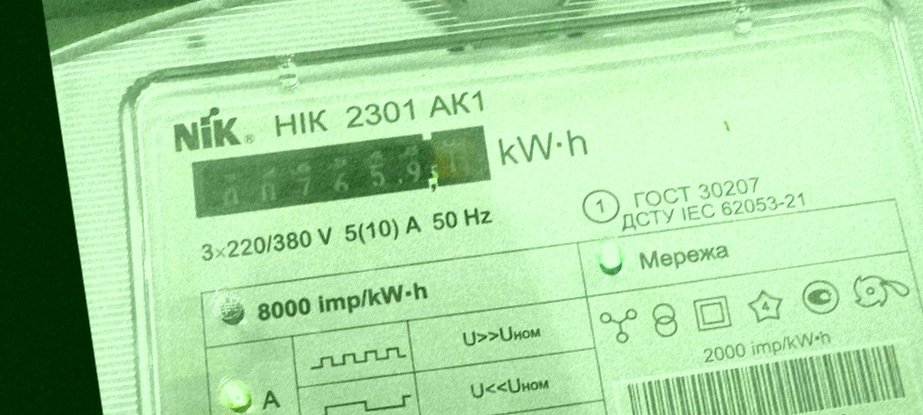0: (220, 179, 242, 207), (258, 174, 280, 202)
1: (444, 141, 462, 174)
5: (365, 156, 391, 186)
6: (330, 165, 353, 191)
7: (294, 170, 317, 198)
9: (403, 153, 425, 182)
screen: (178, 102, 506, 238)
